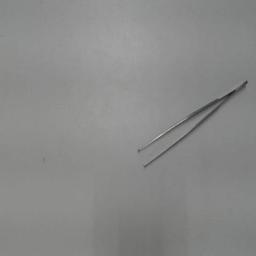Gillies Toothed Dissector: (130, 76, 250, 176)
